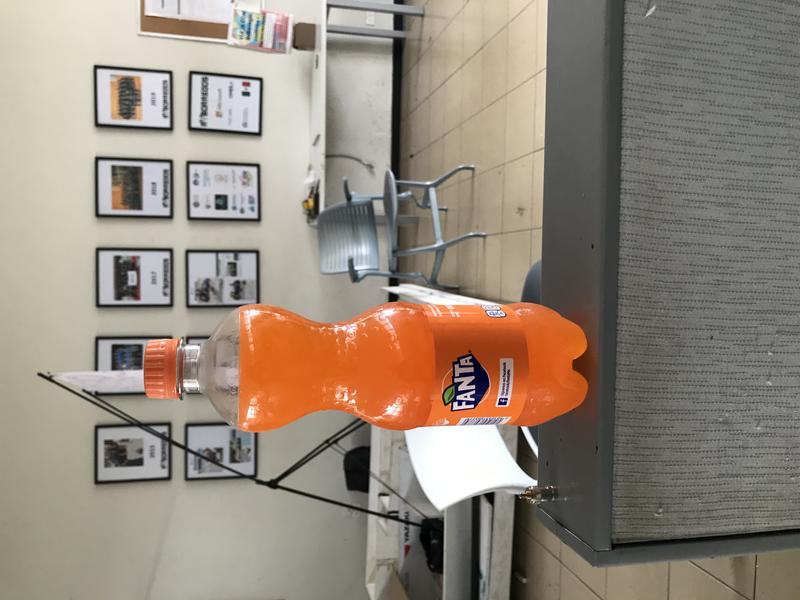fanta: (141, 303, 591, 432)
